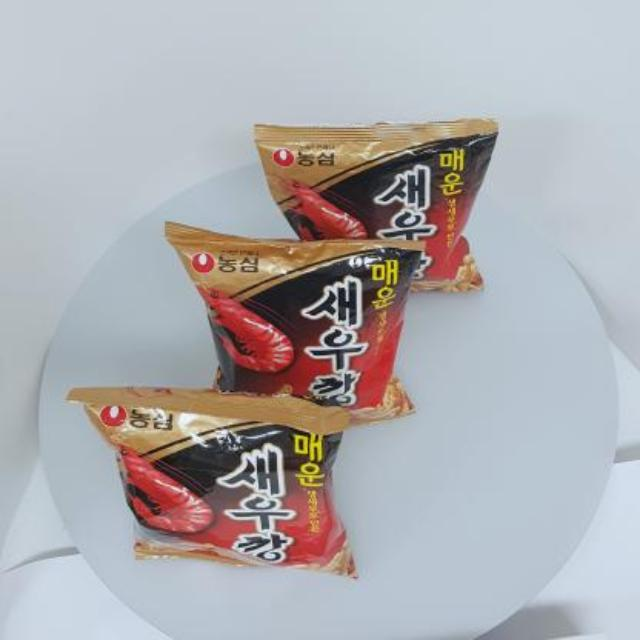snack_bag: (63, 111, 504, 583)
